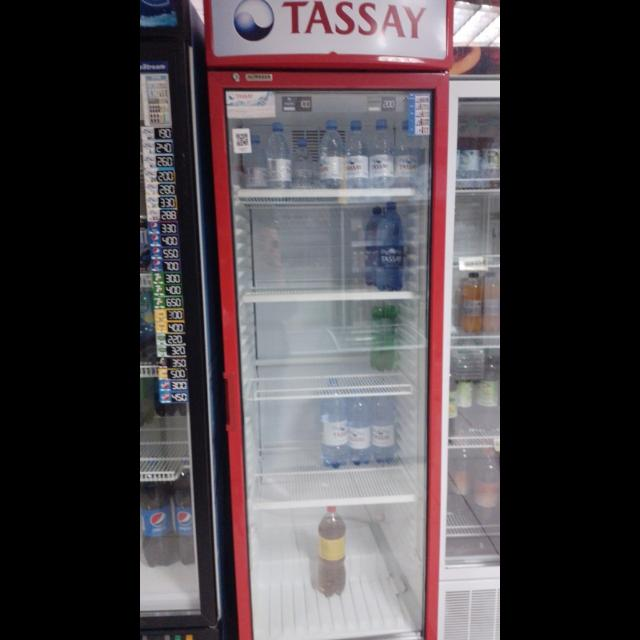Cooling-Display: (202, 1, 453, 640)
